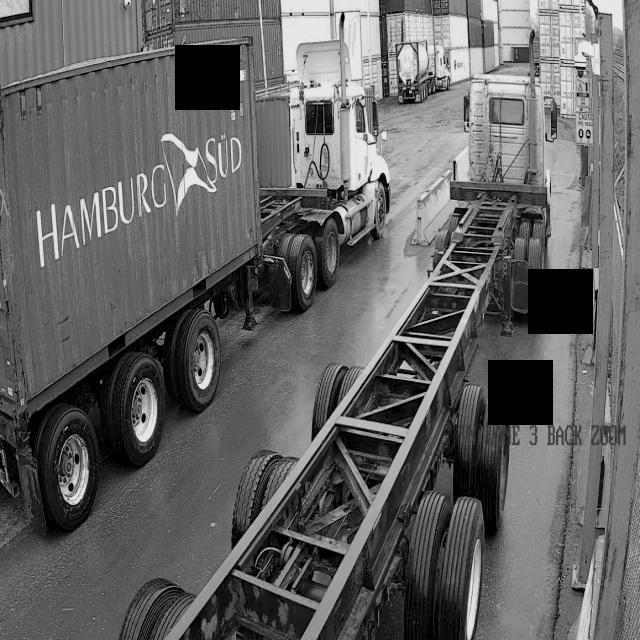container_company_logo: (29, 116, 245, 280)
truck_with_container: (0, 15, 390, 534)
truck_without_container: (164, 60, 557, 640)
